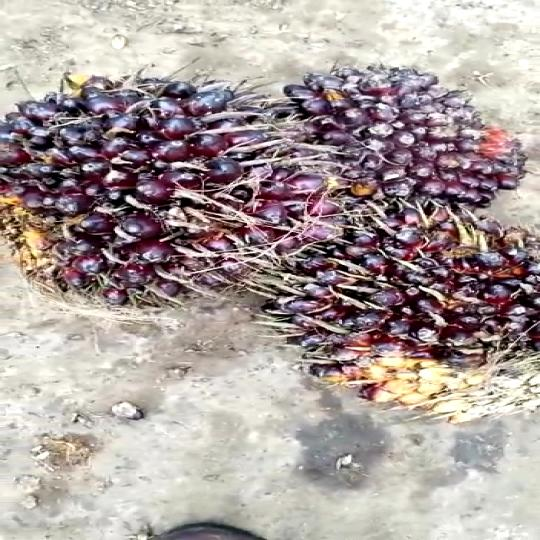kurang masak: (0, 48, 316, 312), (285, 205, 540, 436), (246, 38, 540, 218)
